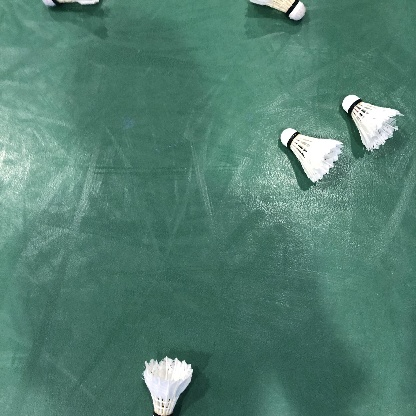ball_single: (342, 95, 404, 152), (280, 128, 344, 183), (143, 356, 193, 416), (249, 0, 306, 21)
